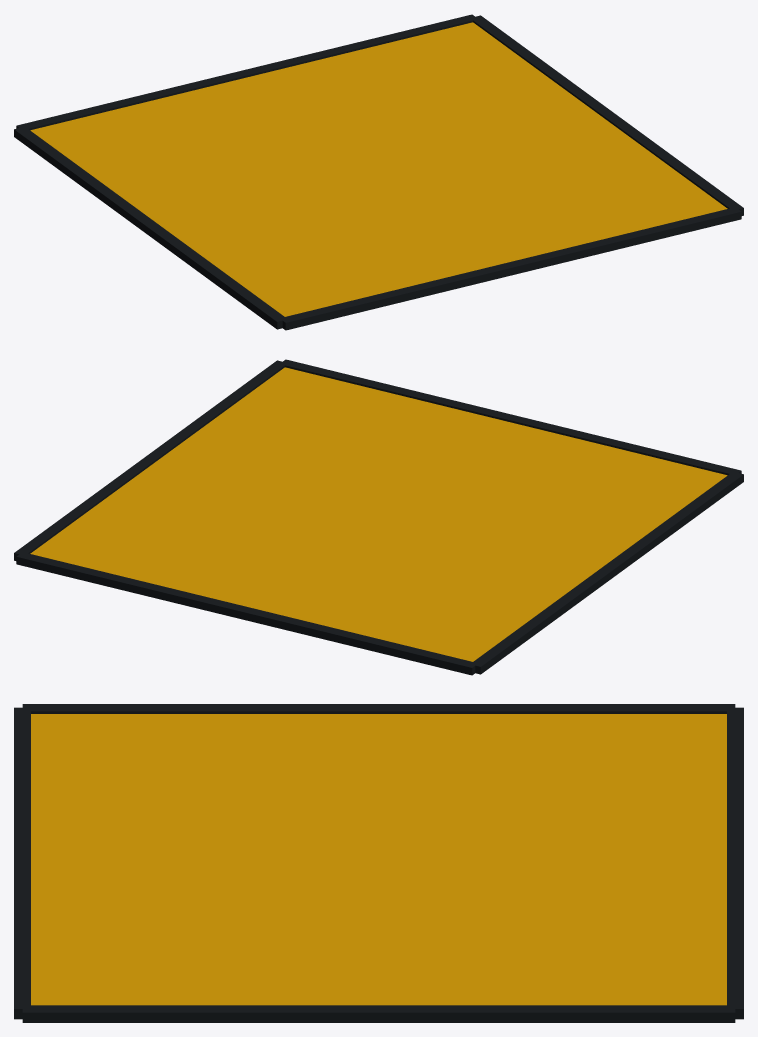
3 views of the same model, one above another, from view 1: azimuth 30°, elevation 25°; view 2: azimuth 150°, elevation 25°; view 3: azimuth 270°, elevation 25° (orthographic). The views are drawn at different scales.
Visible parts, largest first — view 1: zone-floor, zone-edge-b, zone-edge-c, zone-edge-a, zone-edge-d; view 2: zone-floor, zone-edge-a, zone-edge-c, zone-edge-b, zone-edge-d; view 3: zone-floor, zone-edge-d, zone-edge-c, zone-edge-b, zone-edge-a.
Part boxes in pixels (<box>): zone-floor: <box>30,22,727,316</box>; zone-edge-b: <box>280,207,741,330</box>; zone-edge-c: <box>14,127,286,329</box>; zone-edge-a: <box>16,14,477,130</box>; zone-edge-d: <box>473,15,743,215</box>; zone-floor: <box>30,367,727,661</box>; zone-edge-a: <box>16,552,477,675</box>; zone-edge-c: <box>471,472,743,674</box>; zone-edge-b: <box>280,359,741,475</box>; zone-edge-d: <box>14,360,284,560</box>; zone-floor: <box>31,714,726,1005</box>; zone-edge-d: <box>22,1005,735,1022</box>; zone-edge-c: <box>22,704,735,713</box>; zone-edge-b: <box>14,707,30,1019</box>; zone-edge-a: <box>727,707,743,1019</box>.
Bounding box in the file's own units: 2.56 × 0.04 × 2.56.
